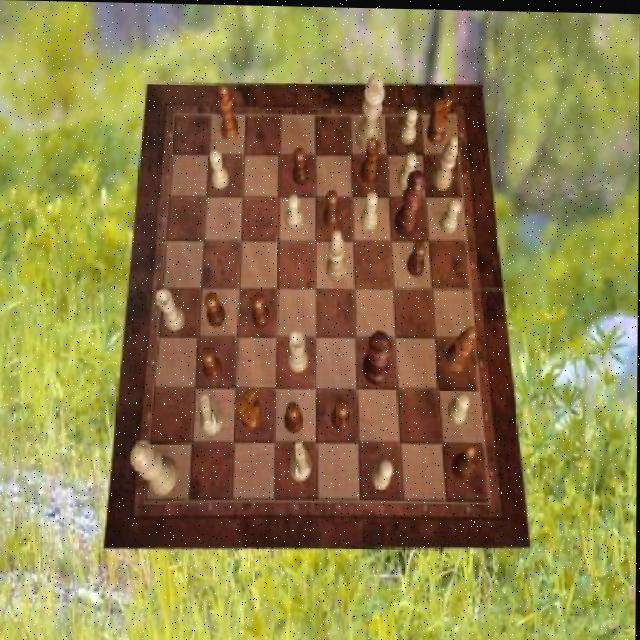bishop: (446, 323, 477, 369), (218, 83, 240, 140)
black-bishop: (362, 328, 392, 384)
black-king: (428, 94, 452, 143), (235, 385, 262, 428)
black-knight: (200, 347, 223, 381), (406, 238, 426, 276), (205, 291, 226, 326), (253, 290, 271, 327), (322, 189, 339, 228), (293, 147, 310, 186), (332, 398, 351, 431), (285, 402, 304, 435)
black-pawn: (394, 168, 427, 238)
black-queen: (451, 443, 482, 480), (359, 136, 381, 183)
black-rook: (431, 132, 458, 187), (326, 227, 346, 280)
white-bishop: (356, 71, 384, 151)
white-king: (200, 393, 224, 436), (290, 441, 313, 481)
white-knight: (396, 150, 416, 188), (209, 150, 228, 189), (439, 197, 460, 231), (370, 457, 393, 488), (449, 389, 470, 422), (400, 106, 418, 144), (360, 191, 377, 229), (285, 193, 302, 228)
white-pawn: (129, 439, 177, 494)
white-queen: (155, 287, 184, 330), (286, 330, 308, 372)
